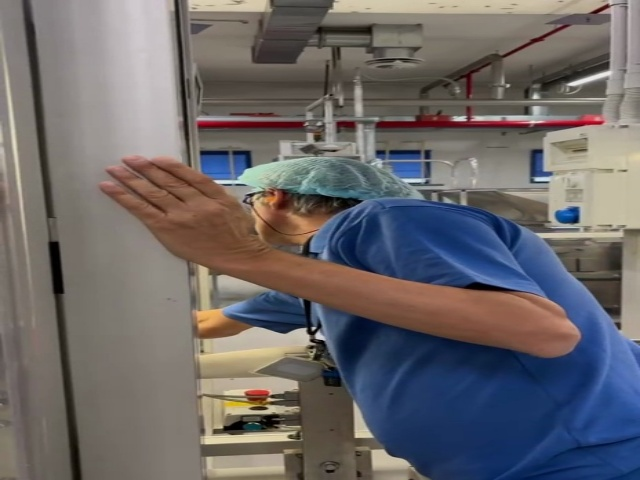Earplug: (266, 187, 283, 210)
Hairnet: (243, 156, 428, 198)
No_Helmet: (243, 157, 423, 199)
No_Vest: (315, 200, 640, 452)
Person: (96, 156, 640, 480)
Safety_Goggles: (235, 187, 271, 207)
